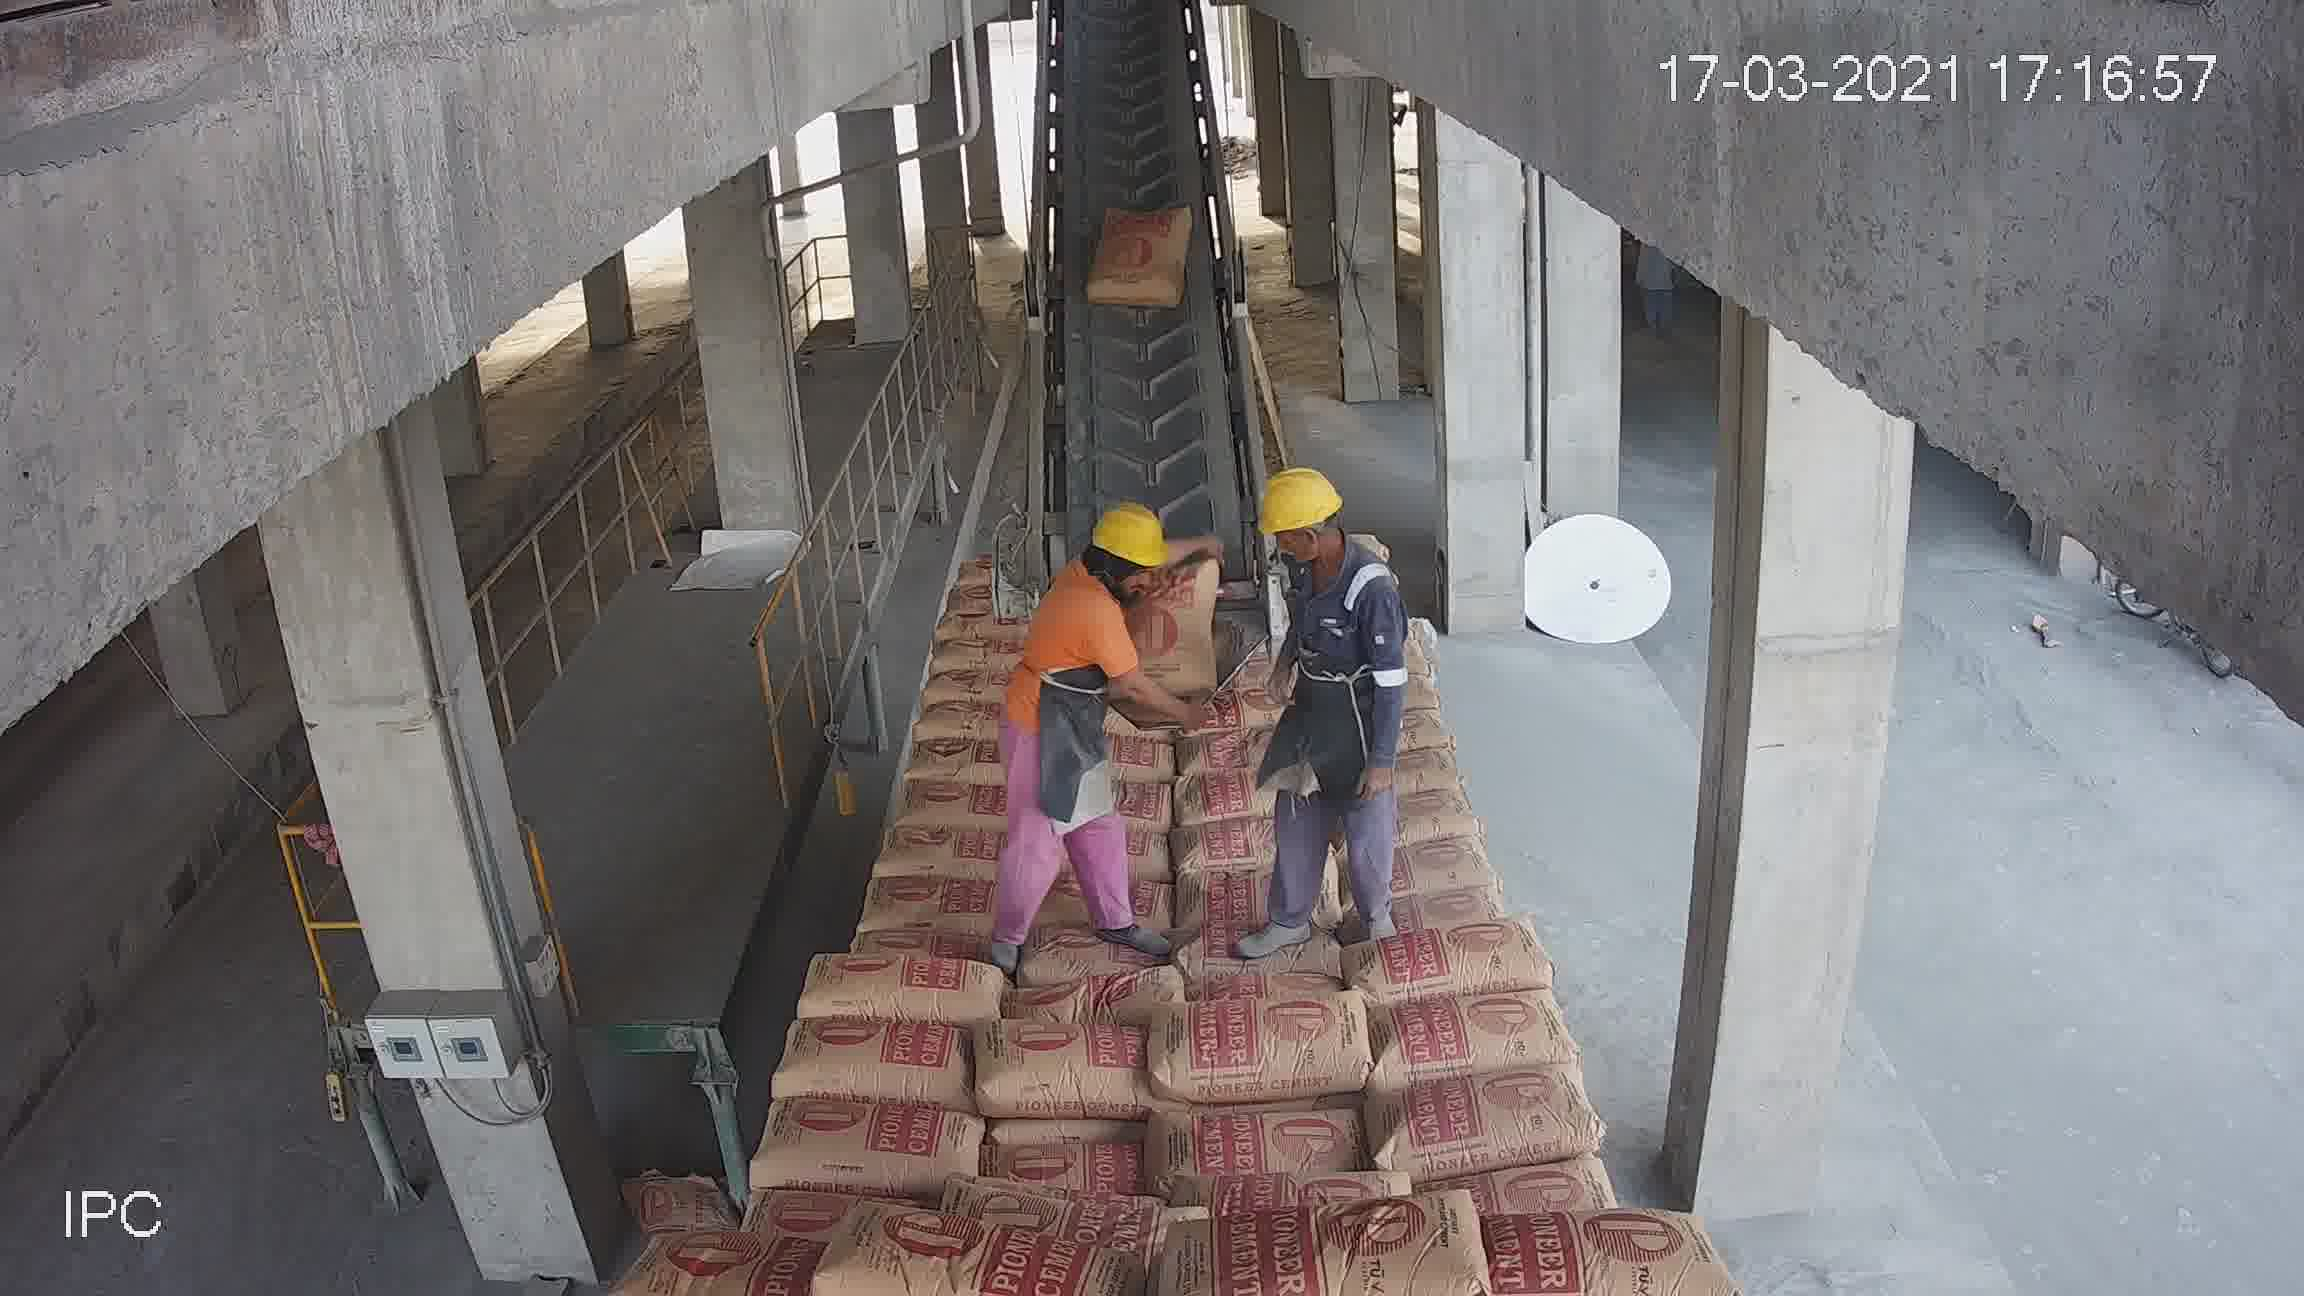bag: (1086, 203, 1188, 305)
bag_h: (1199, 1195, 1494, 1296), (1158, 991, 1385, 1105), (1445, 1203, 1711, 1296), (817, 1215, 1119, 1294), (748, 1101, 994, 1198), (1383, 1079, 1593, 1192), (976, 1013, 1152, 1128), (1367, 989, 1575, 1078), (1158, 1111, 1364, 1196), (771, 1022, 976, 1106), (1350, 919, 1556, 1002), (636, 1228, 845, 1294), (1008, 961, 1190, 1029), (804, 956, 987, 1022), (845, 872, 1021, 937), (992, 1146, 1158, 1203), (834, 915, 1019, 965), (877, 823, 1006, 881), (1169, 718, 1275, 790), (1173, 818, 1283, 881), (1385, 837, 1492, 900), (904, 780, 1017, 839), (1385, 782, 1483, 847), (915, 729, 1010, 790), (1174, 766, 1283, 818), (915, 680, 1002, 729)
belt: (1017, 11, 1268, 646)
